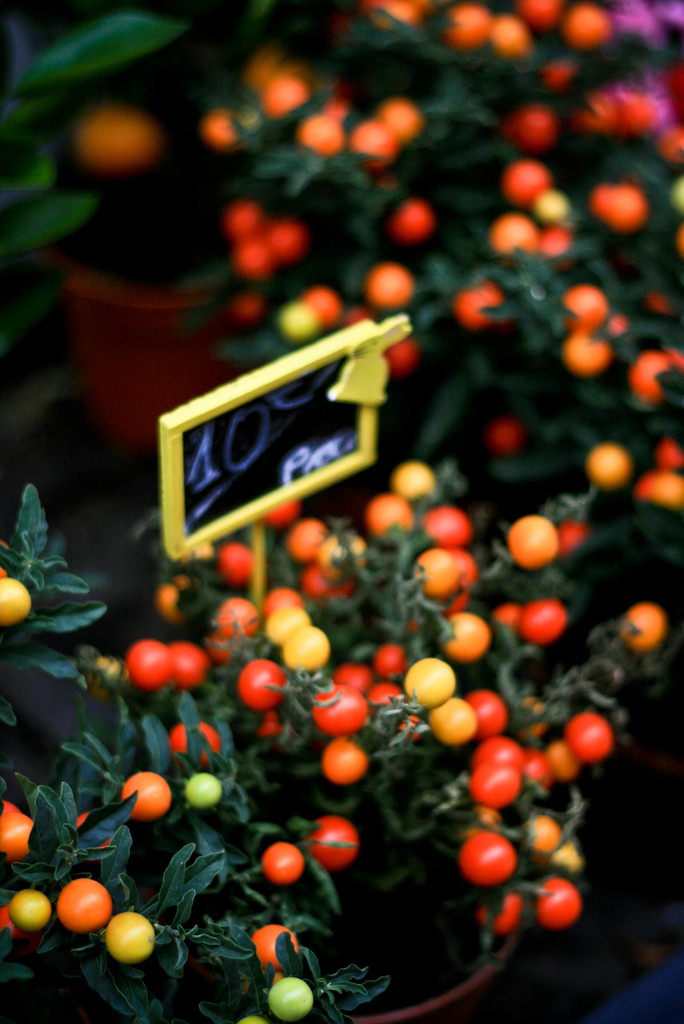Tomato: (452, 827, 523, 896), (55, 881, 114, 934), (470, 752, 516, 814), (309, 816, 358, 873), (121, 769, 173, 817), (234, 659, 285, 707), (309, 688, 365, 730), (322, 737, 374, 782), (416, 549, 463, 597), (1, 805, 47, 854), (281, 628, 325, 679), (407, 656, 455, 702), (173, 723, 220, 769), (110, 912, 153, 962), (127, 638, 169, 689), (509, 518, 553, 565), (267, 602, 309, 651), (567, 711, 607, 761), (444, 614, 489, 658), (213, 599, 265, 637), (525, 602, 570, 644), (465, 688, 505, 735), (265, 973, 308, 1015), (427, 700, 470, 740), (250, 924, 295, 962), (589, 441, 625, 488), (10, 888, 50, 929), (365, 497, 411, 532), (187, 771, 222, 816), (425, 507, 472, 540), (166, 640, 203, 680), (541, 880, 580, 917), (260, 845, 299, 881), (1, 577, 29, 626), (395, 460, 427, 502), (633, 607, 666, 644), (337, 664, 372, 698), (376, 644, 407, 672), (374, 679, 398, 700)
